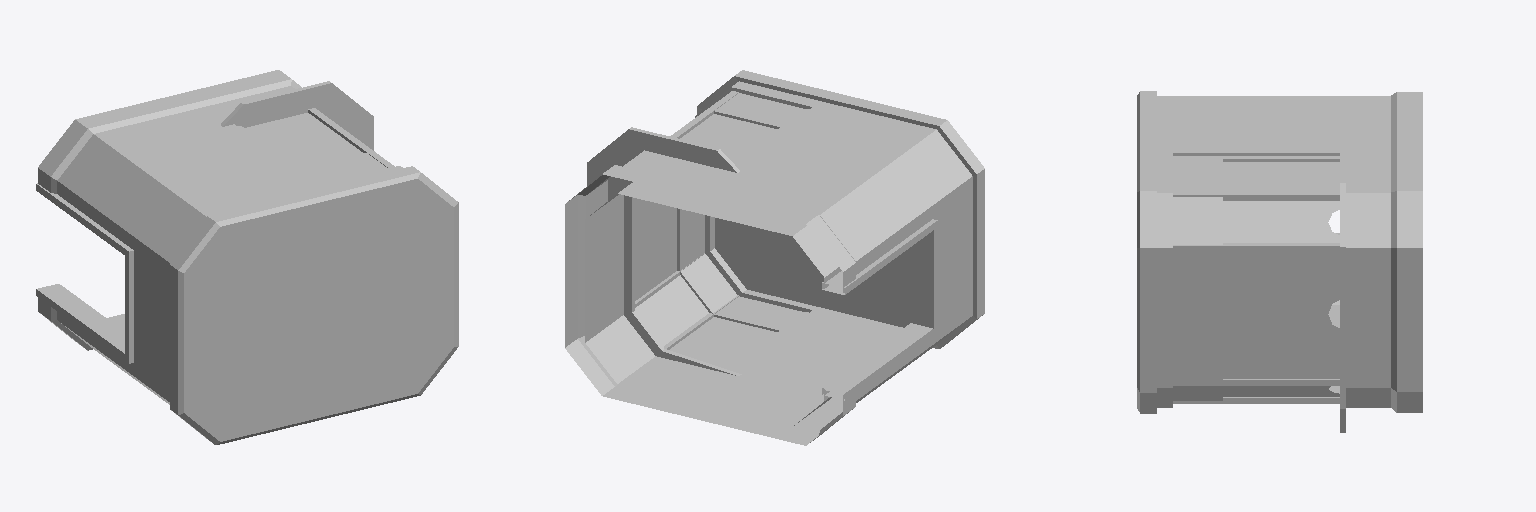
File: ticket.obj
The picture shows the model from 3 angles: view 1: azimuth 30°, elevation 25°; view 2: azimuth 150°, elevation 25°; view 3: azimuth 270°, elevation 25°; orthographic projection.
Visible parts, largest first — view 1: TicketBooth.001; view 2: TicketBooth.001; view 3: TicketBooth.001.
Part boxes in pixels (bbox=[...]): TicketBooth.001: bbox=[36, 70, 458, 444]; TicketBooth.001: bbox=[565, 70, 984, 445]; TicketBooth.001: bbox=[1137, 91, 1422, 432].
Bounding box in the file's own units: 4.07 × 3.28 × 3.4.